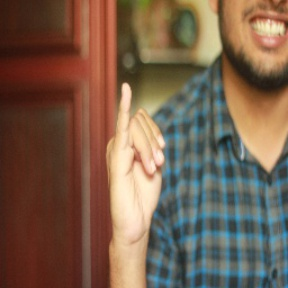I: (103, 80, 169, 239)
